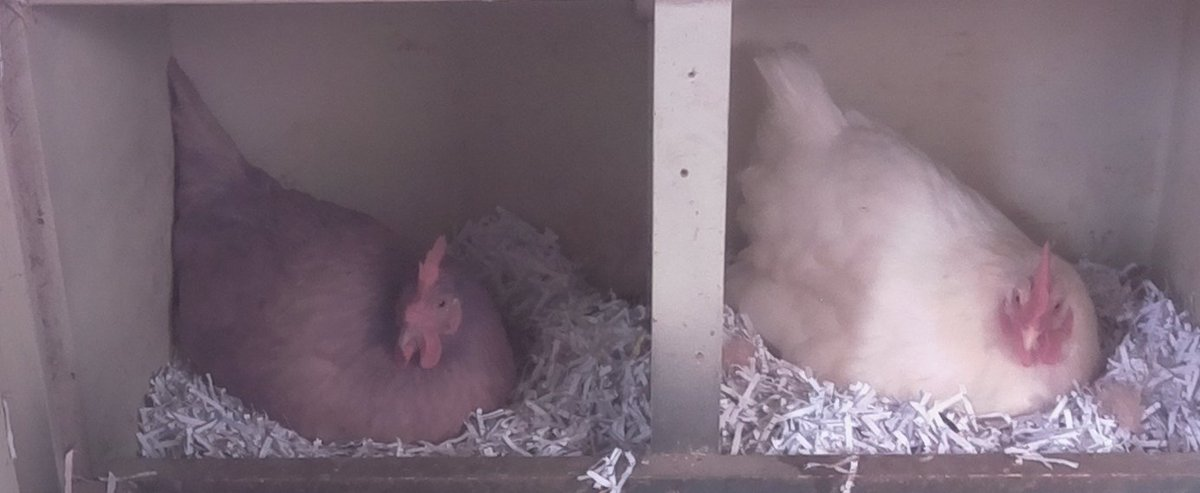hen: (730, 41, 1105, 428), (160, 79, 523, 452)
